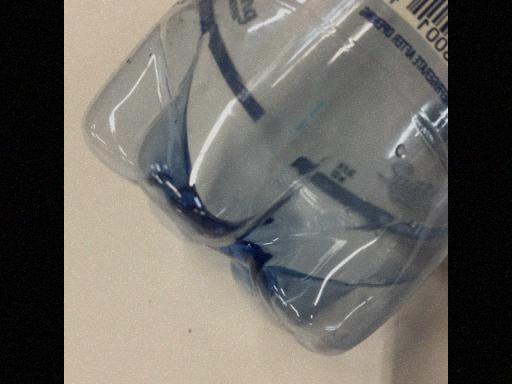paper: (82, 3, 446, 361)
